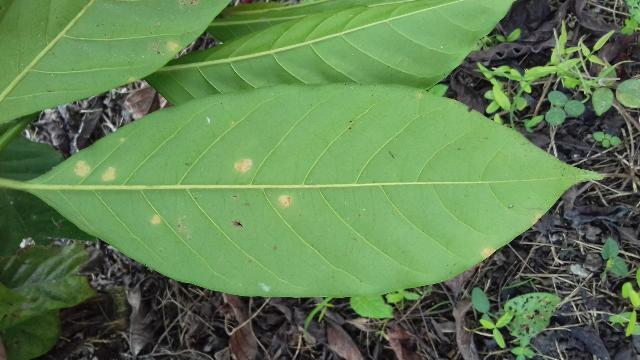rust_level_1: (26, 82, 603, 298)
